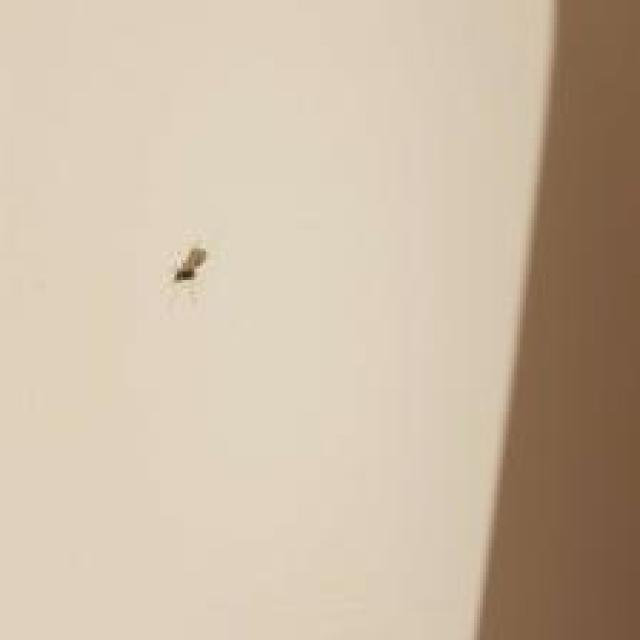Culex: (173, 246, 207, 283)
